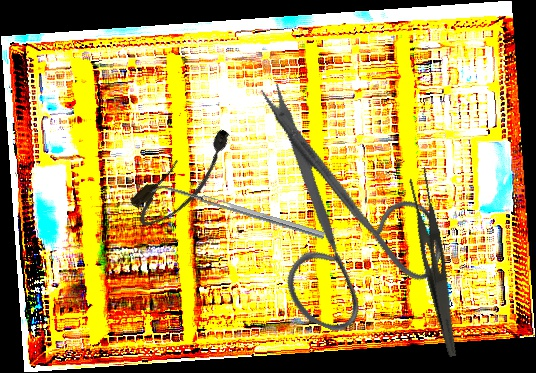Cannula: (124, 121, 247, 236)
Dressing Forceps: (398, 166, 478, 358)
Iris Scissors: (183, 77, 479, 359)
Spatula Surgical: (150, 180, 326, 246)
